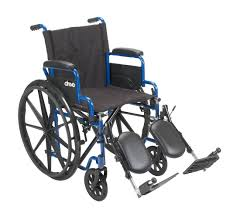wheelchair: (17, 15, 221, 201)
